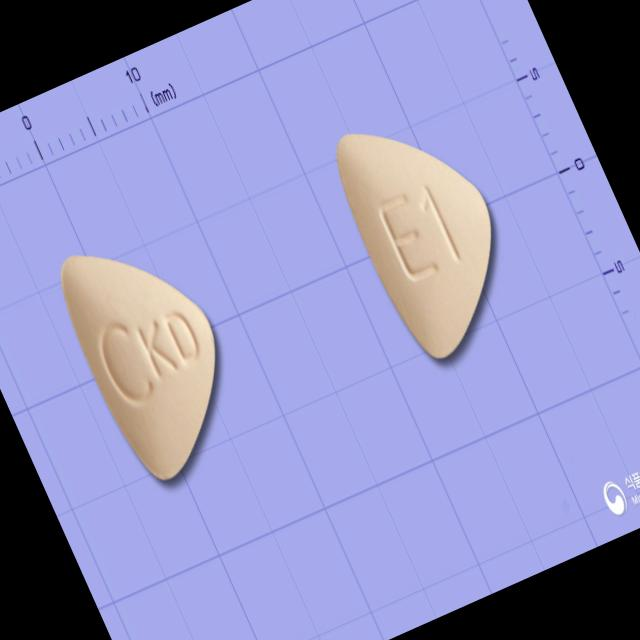Ciproc: (320, 90, 540, 370), (46, 215, 262, 490)
